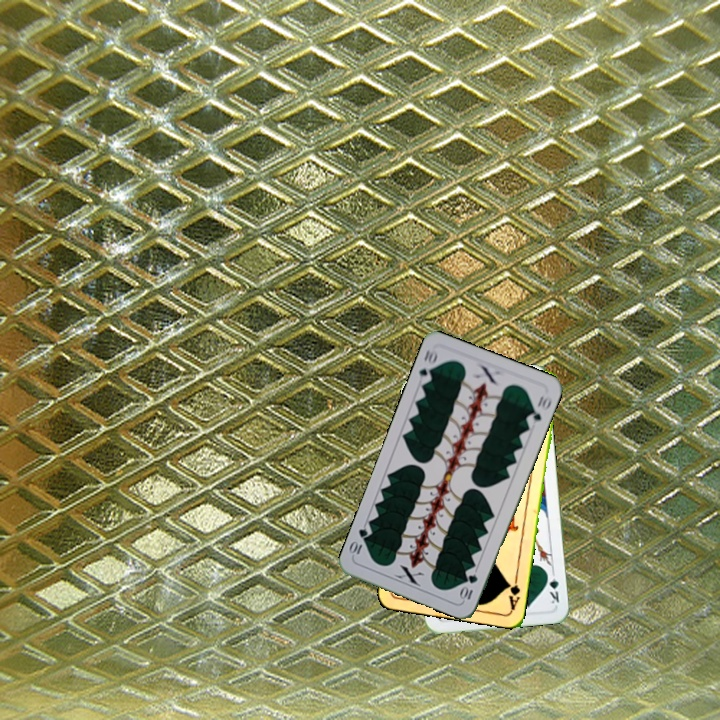G10: (415, 345, 440, 386), (457, 570, 480, 603)
GA: (504, 571, 522, 612)
GK: (543, 567, 562, 606)
